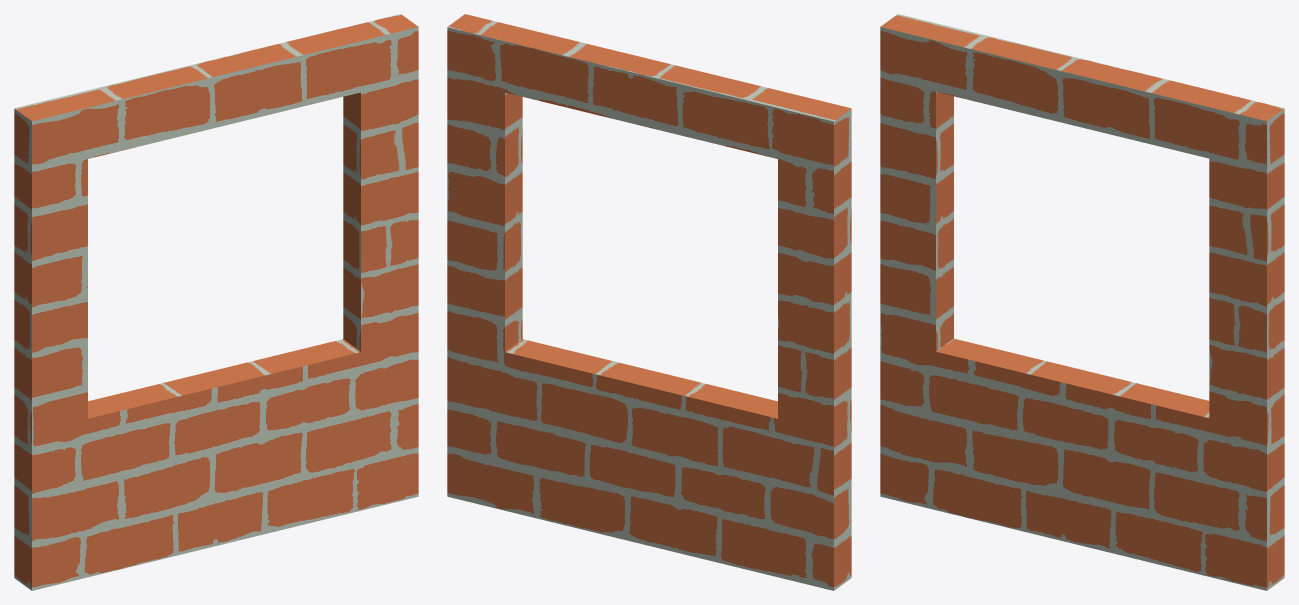
File: Brick_Wall_Win_04.fbx
3 renders of one model, left to right at view 1: azimuth 30°, elevation 25°; view 2: azimuth 150°, elevation 25°; view 3: azimuth 330°, elevation 25°, orthographic.
Parts seen in each view (by area): view 1: Brick_Wall_Win_04; view 2: Brick_Wall_Win_04; view 3: Brick_Wall_Win_04.
Boxes of the visible parts, x1=… form: Brick_Wall_Win_04: x1=14, y1=14, x2=418, y2=590; Brick_Wall_Win_04: x1=447, y1=14, x2=851, y2=590; Brick_Wall_Win_04: x1=880, y1=14, x2=1284, y2=590.
Size of the model in its own units: 250 by 290 by 20.
